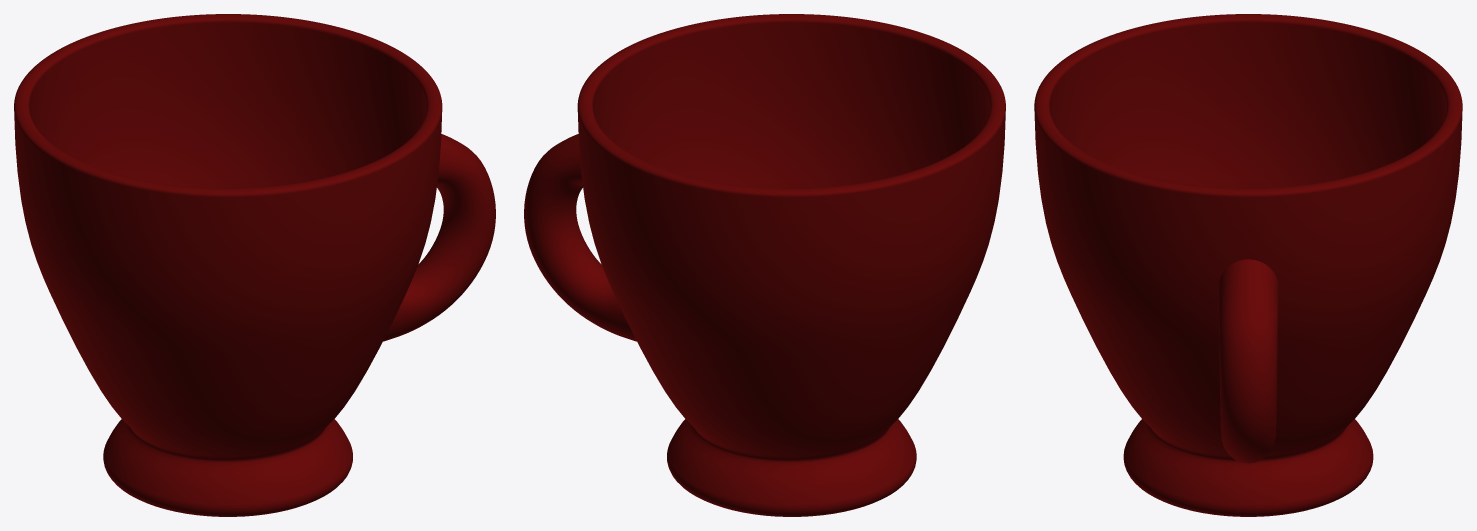
The picture shows the model from 3 angles, left to right: view 1: azimuth 30°, elevation 25°; view 2: azimuth 150°, elevation 25°; view 3: azimuth 270°, elevation 25°; orthographic projection.
Size of the model in its own units: 0.0814 by 0.0633 by 0.0672.
